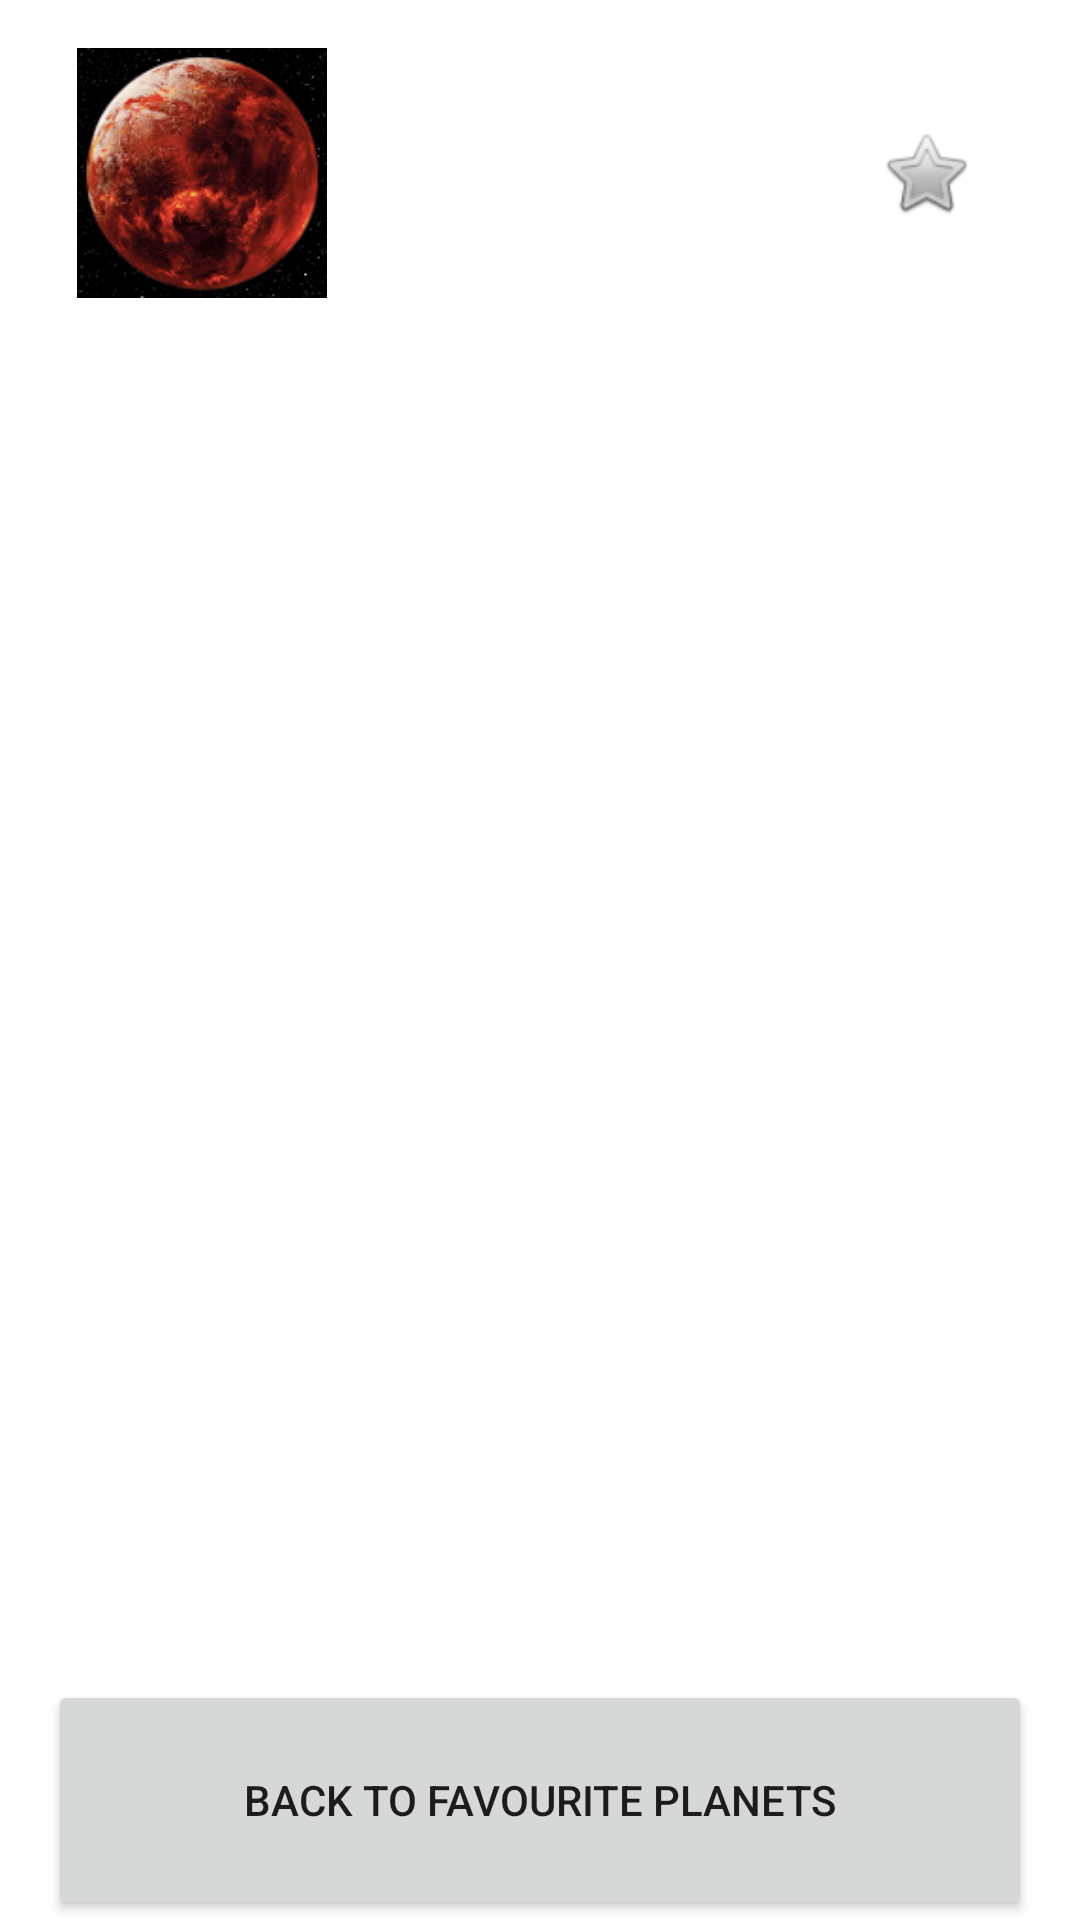

Screen size 1080×1920. Icon name, then its center in pixels as (x=x, y=y):
planet: (x=202, y=173)
star off: (x=927, y=174)
